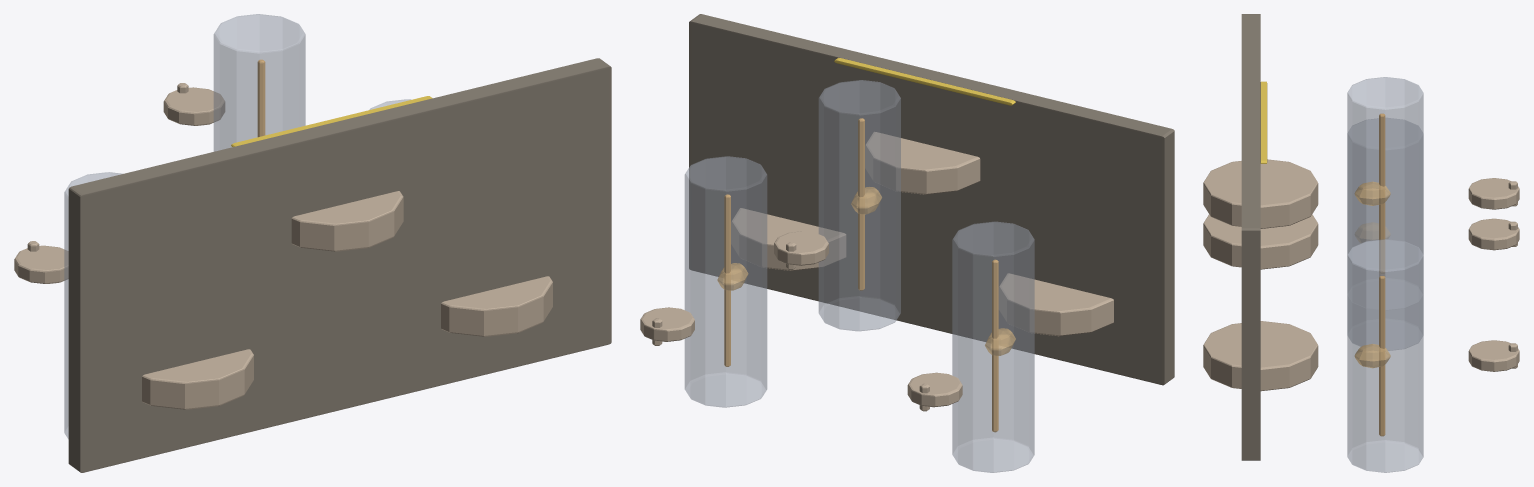
File: tubetech_vt.glb
3 views of the same model, side by side, from view 1: azimuth 30°, elevation 25°; view 2: azimuth 150°, elevation 25°; view 3: azimuth 270°, elevation 25° (orthographic). The views are drawn at different scales.
Parts seen in each view (by area): view 1: TubeTech_VT; view 2: TubeTech_VT; view 3: TubeTech_VT.
Boxes of the visible parts, x1,y1,x2,y2 form: TubeTech_VT: [14, 14, 611, 472]; TubeTech_VT: [640, 14, 1174, 472]; TubeTech_VT: [1203, 14, 1519, 472].
Size of the model in its own units: 1.6 by 1.05 by 0.9896.
